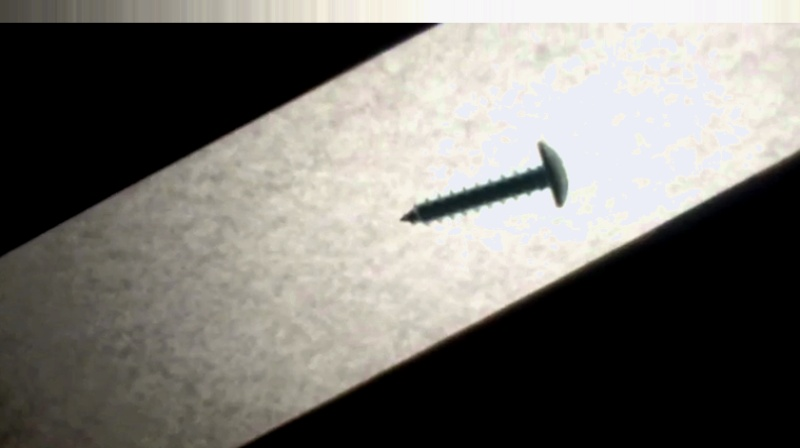S003: (393, 137, 572, 228)
